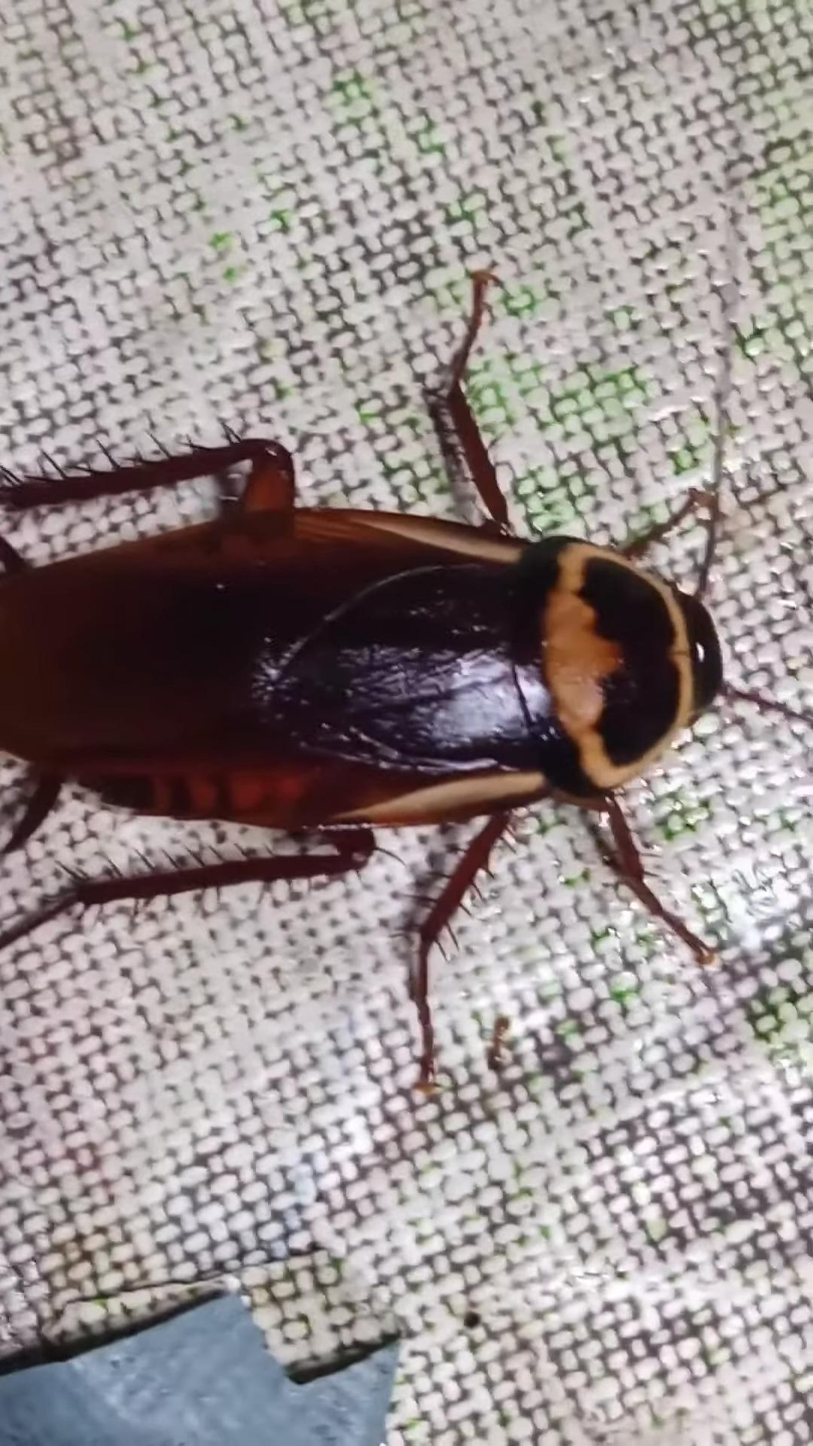cockroach: (0, 253, 813, 1127)
